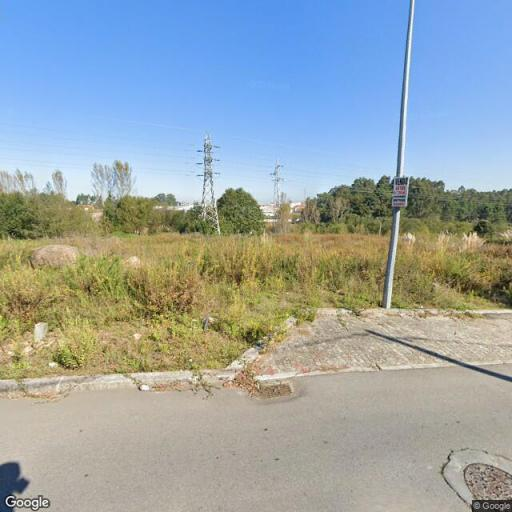ss_3: (195, 133, 223, 234)
ss_4: (270, 156, 284, 215)
